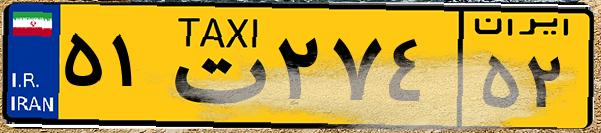1: (110, 28, 158, 98)
2: (270, 28, 330, 110), (525, 38, 570, 115)
4: (385, 28, 445, 110)
5: (57, 26, 110, 100), (475, 38, 525, 113)
7: (330, 28, 385, 110)
ت: (158, 12, 270, 120)
